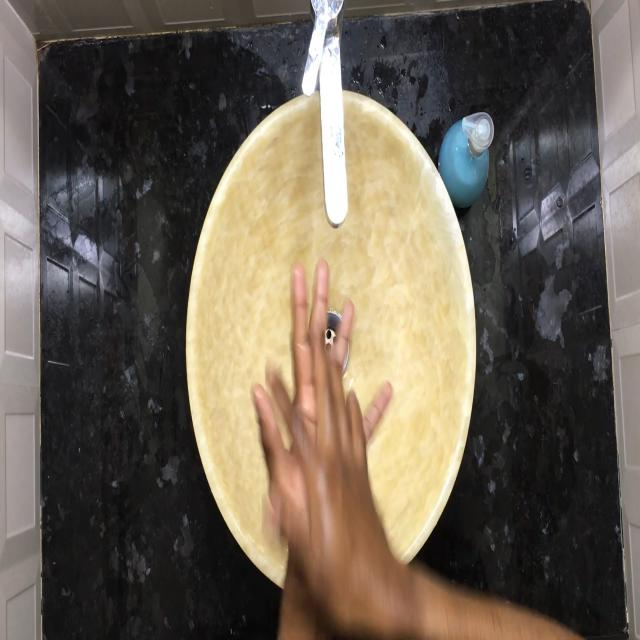step_3: (239, 249, 395, 571)
